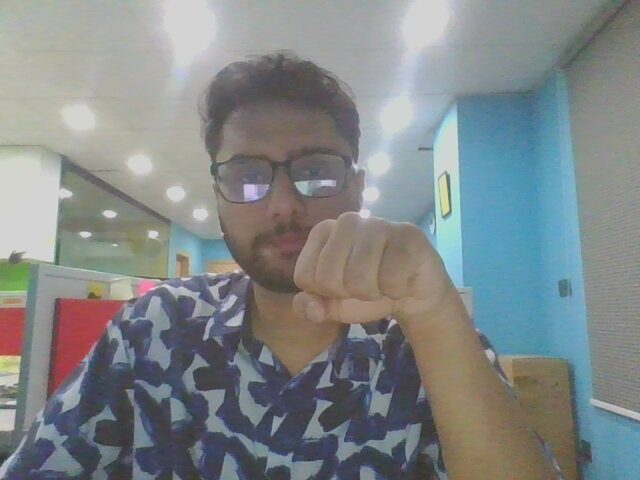yes: (287, 195, 483, 354)
